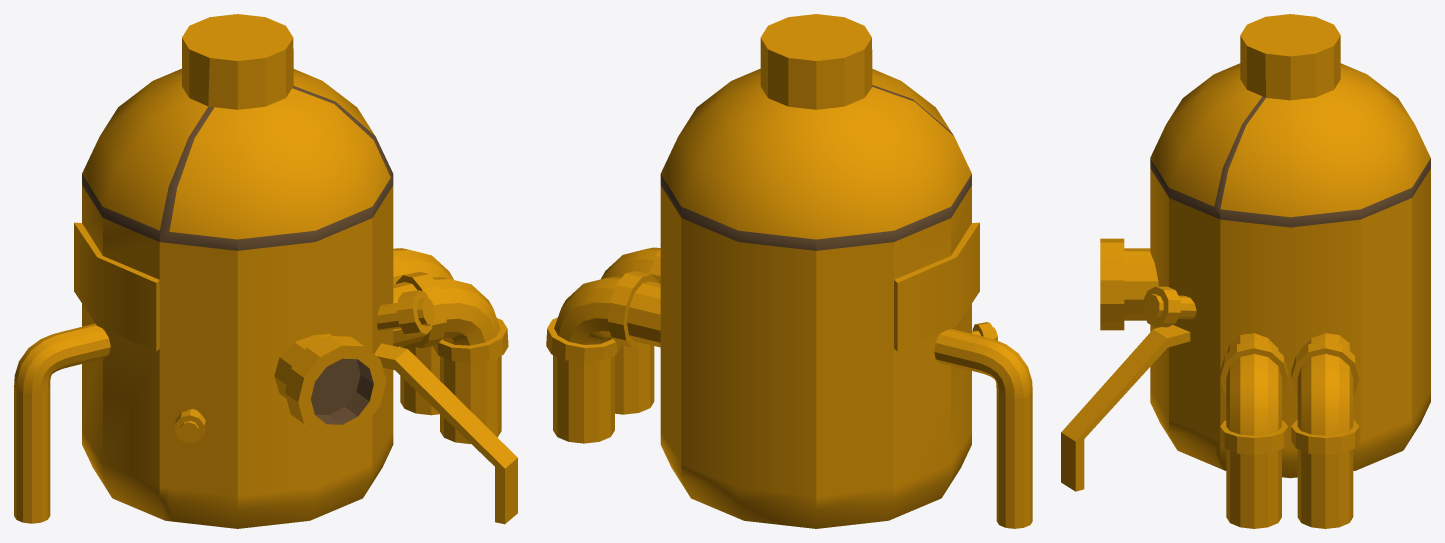
The model's file is machine ronde.fbx.
3 renders of one model, left to right at view 1: azimuth 30°, elevation 25°; view 2: azimuth 150°, elevation 25°; view 3: azimuth 270°, elevation 25°, orthographic. The views are drawn at different scales.
Parts seen in each view (by area): view 1: machine_ronde; view 2: machine_ronde; view 3: machine_ronde.
Part boxes in pixels (x1,y1,x2,y2): machine_ronde: (14,14,517,528); machine_ronde: (546,14,1032,528); machine_ronde: (1061,14,1430,528).
Bounding box in the file's own units: 0.9671 × 0.8775 × 0.7415.
